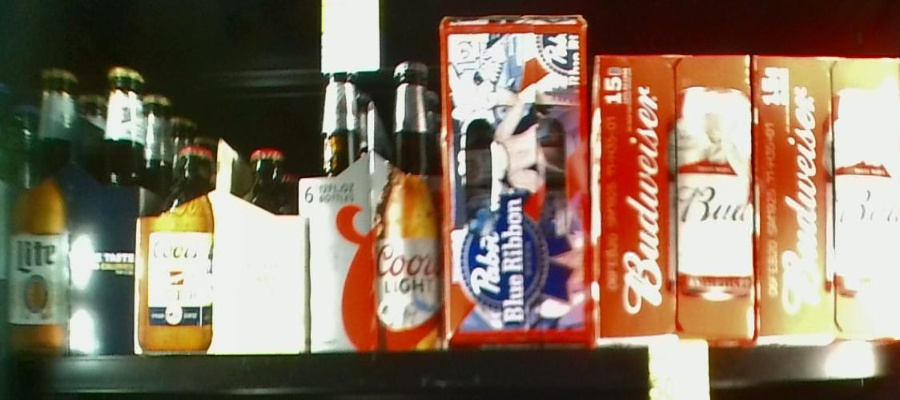bottle: (441, 18, 587, 336), (593, 57, 751, 340), (755, 55, 900, 344), (302, 54, 442, 350), (3, 61, 135, 354), (135, 141, 307, 353)
